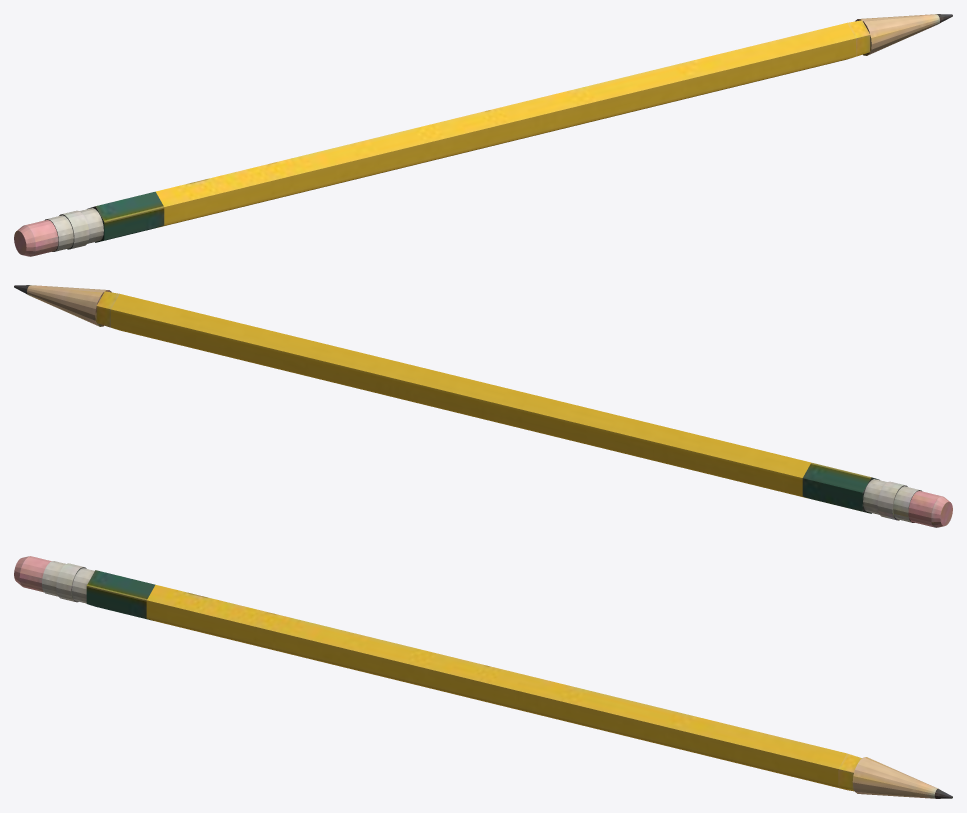
Rendered from pencil.glb.
3 renders of one model, top to bottom at view 1: azimuth 30°, elevation 25°; view 2: azimuth 150°, elevation 25°; view 3: azimuth 330°, elevation 25°, orthographic.
Parts seen in each view (by area): view 1: pencil; view 2: pencil; view 3: pencil.
Part boxes in pixels (x1,y1,x2,y2): pencil: (14, 14, 952, 256); pencil: (14, 285, 952, 527); pencil: (14, 556, 952, 798).
Size of the model in its own units: 0.186 by 0.007 by 0.00658.
1 material, 1 textured.
